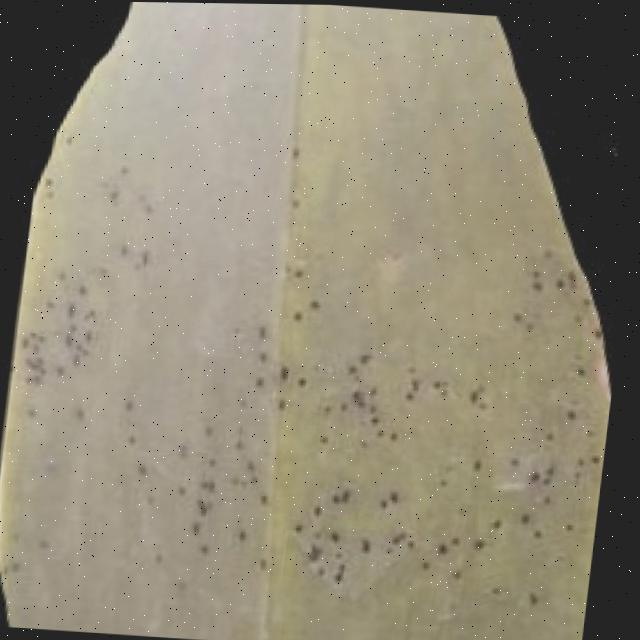mite: (248, 230, 621, 618), (337, 487, 362, 509), (298, 374, 322, 396), (295, 310, 312, 327), (312, 298, 329, 315), (284, 365, 299, 384), (302, 376, 316, 390)
